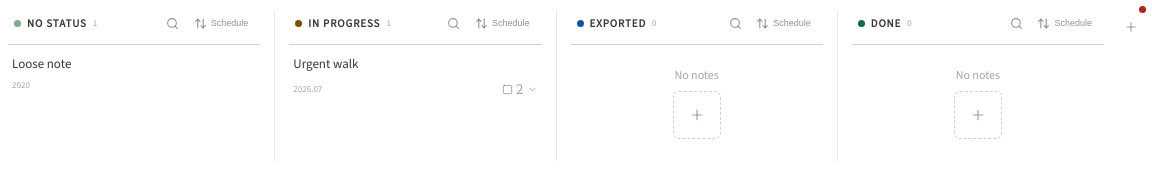
Test: BoardPane (Wave 4) › new-status slot sits at the far right of the column row; + → input → Enter adds the status (2026-09-08)
The image size is (1152, 188).
Click the button with test id "board-add-status-btn". click: point(1131, 27)
box: [1118,14,1144,40]
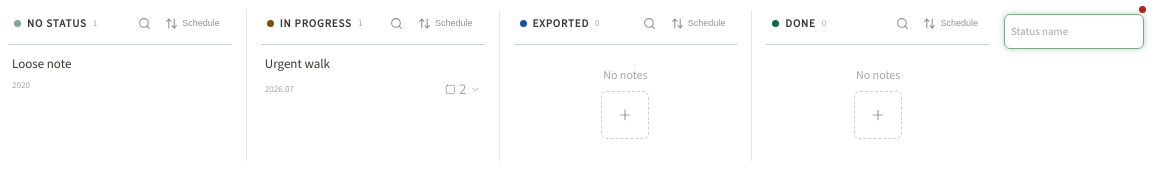
Type "  검토  " into the field with test id "board-add-status-input". click: point(1074, 32)
box: [1004,14,1144,49]
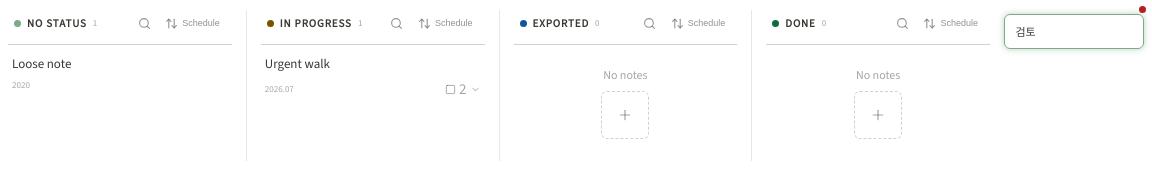
Press Enter in the field with test id "board-add-status-input", box [1004,14,1144,49]
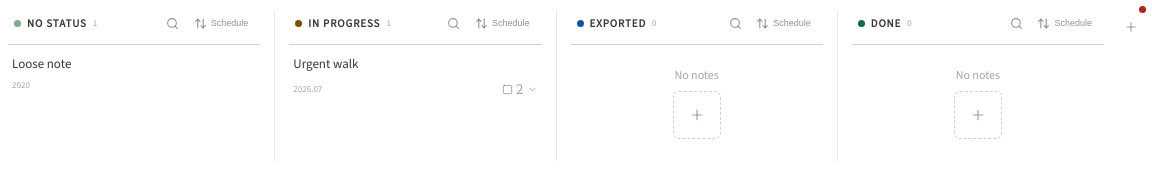
Click the button with test id "board-add-status-btn". click: point(1131, 27)
box: [1118,14,1144,40]
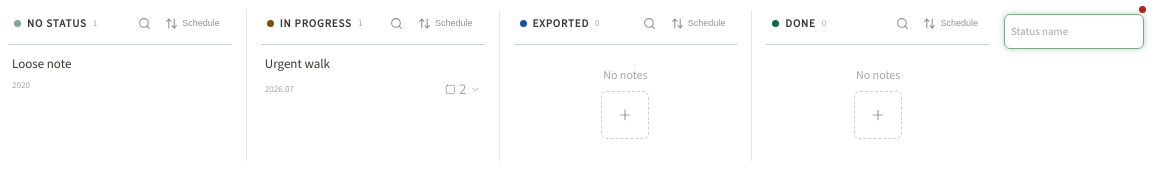
Press Escape in the field with test id "board-add-status-input", box [1004,14,1144,49]
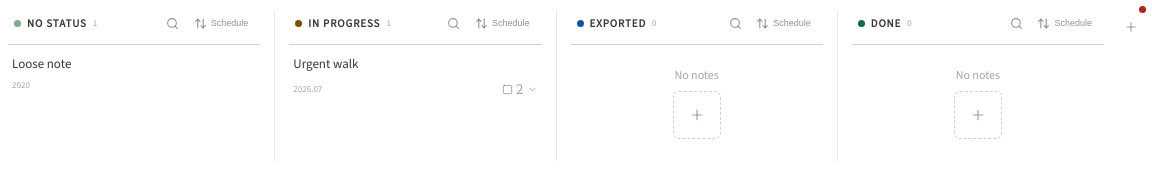
Result: the field with test id "board-add-status-input" is gone
